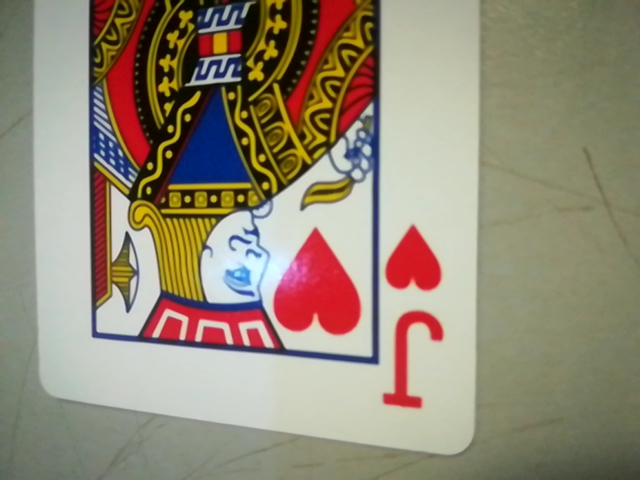hx j: (372, 220, 462, 417)
